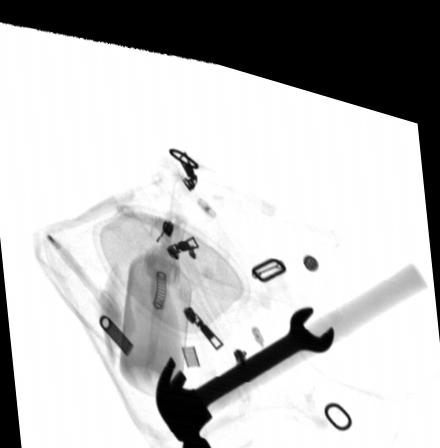Hammer: (155, 236, 430, 448)
Wrench: (163, 288, 335, 428)
